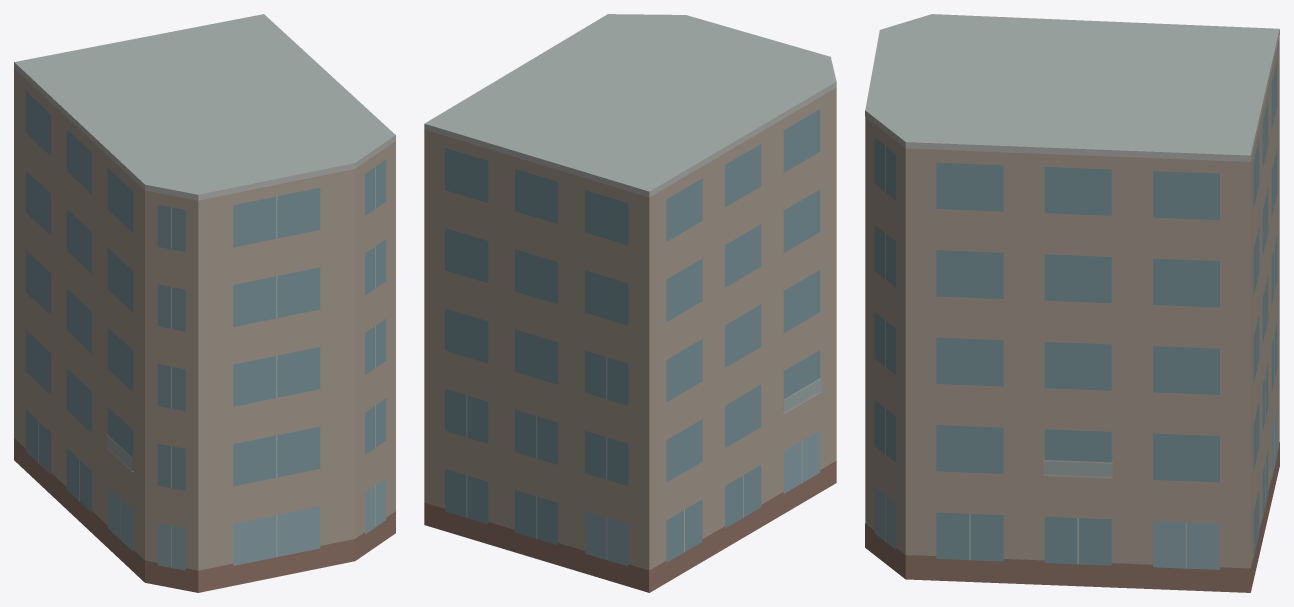
File: survey-upis-32515244.glb
The picture shows the model from 3 angles, left to right: view 1: azimuth 30°, elevation 25°; view 2: azimuth 150°, elevation 25°; view 3: azimuth 270°, elevation 25°; orthographic projection. The views are drawn at different scales.
Visible parts, largest first — view 1: survey-upis-32515244.tmp; view 2: survey-upis-32515244.tmp; view 3: survey-upis-32515244.tmp.
Part boxes in pixels (left/top/right/bottom): survey-upis-32515244.tmp: left=14, top=14, right=395, bottom=592; survey-upis-32515244.tmp: left=424, top=14, right=836, bottom=592; survey-upis-32515244.tmp: left=865, top=14, right=1279, bottom=592.
Bounding box in the file's own units: 11.6 × 16.7 × 14.36.
